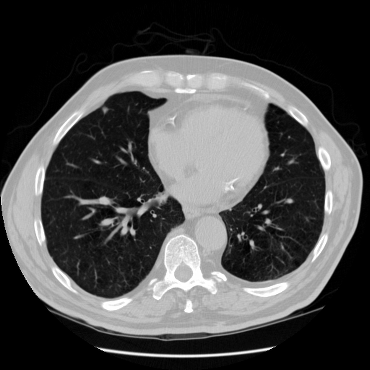nodule: (102, 107, 108, 113)
